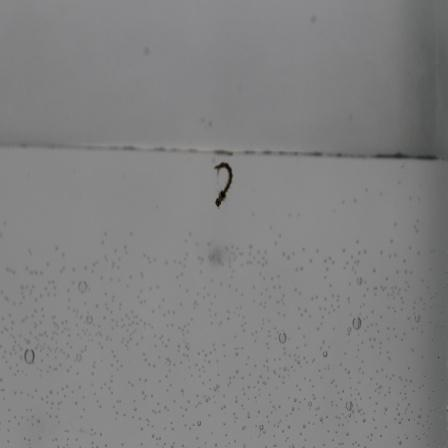Jentik-Nyamuk: (207, 155, 239, 213)
